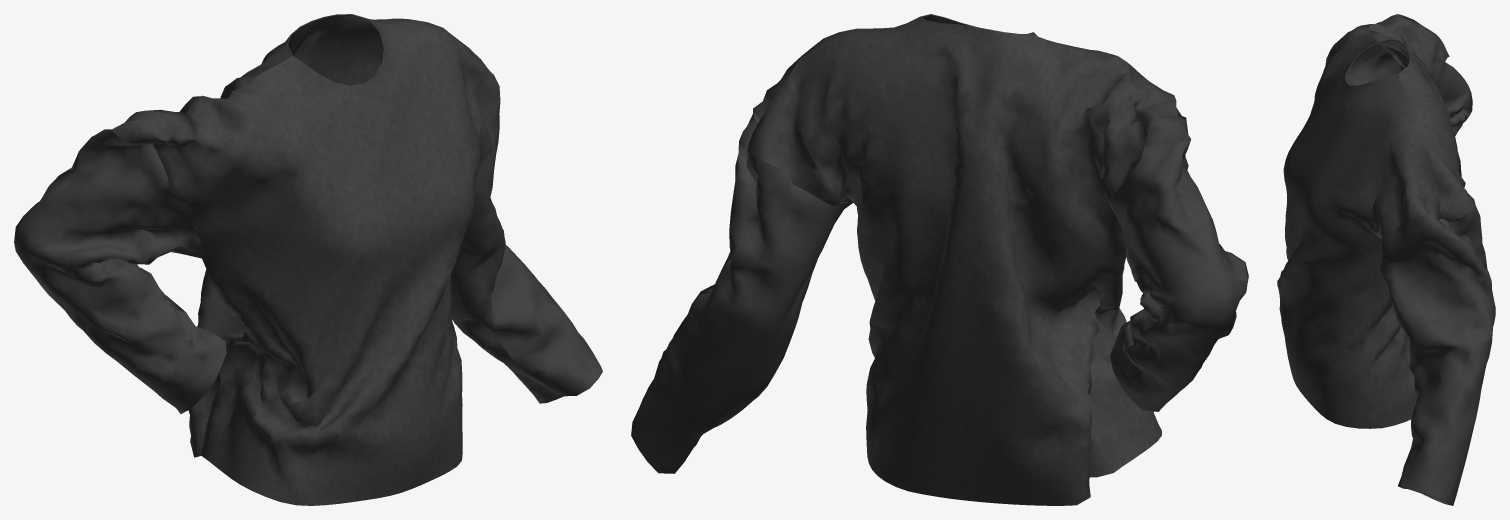
Rendered from FLG_11_01_4.fbx.
The picture shows the model from 3 angles, left to right: view 1: azimuth 30°, elevation 25°; view 2: azimuth 150°, elevation 25°; view 3: azimuth 270°, elevation 25°; orthographic projection. The views are drawn at different scales.
Parts seen in each view (by area): view 1: FLG_11_01_4; view 2: FLG_11_01_4; view 3: FLG_11_01_4.
Boxes of the visible parts, x1,y1,x2,y2 form: FLG_11_01_4: [14, 14, 602, 505]; FLG_11_01_4: [631, 14, 1248, 505]; FLG_11_01_4: [1277, 14, 1495, 505].
Size of the model in its own units: 79.26 by 61.53 by 33.84.
